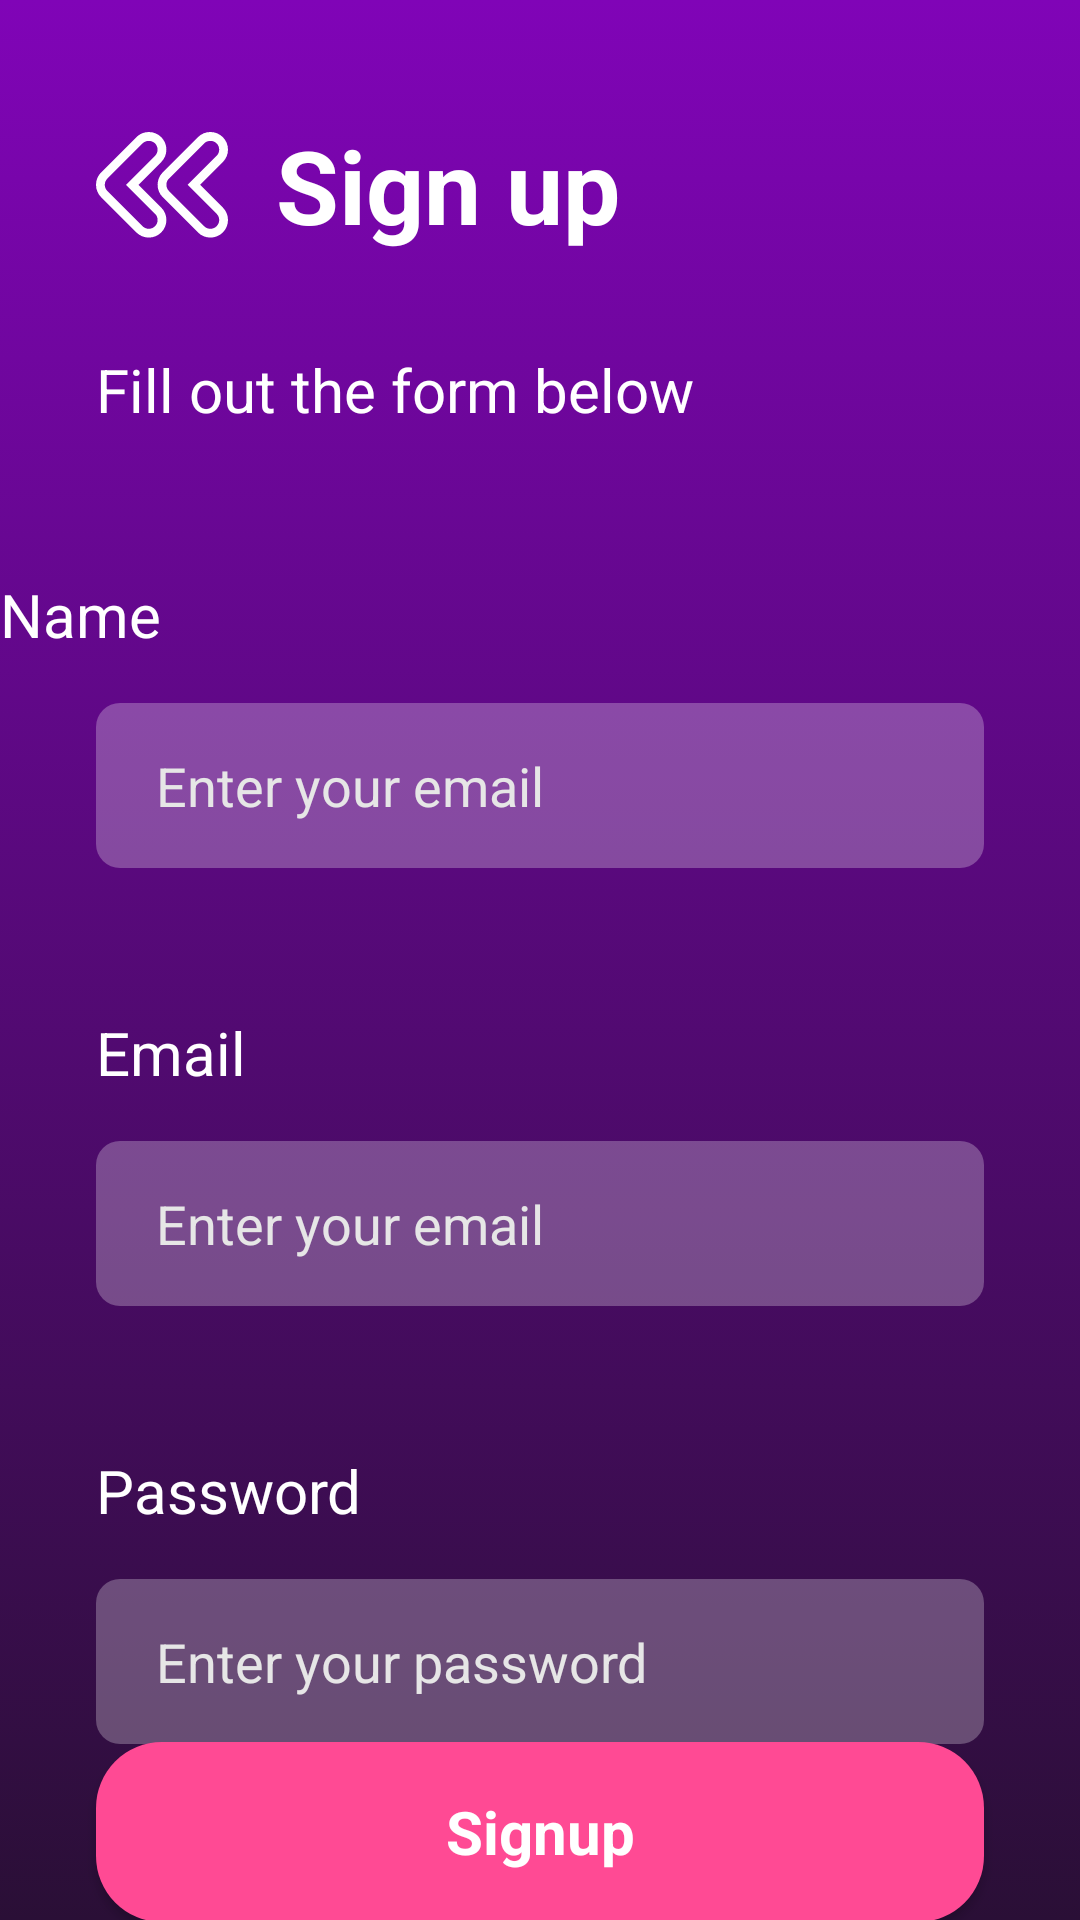

Where icons sit on this 1080w x 1920h app screen, as (x1, y1, x2, y2):
back: (96, 132, 228, 238)
